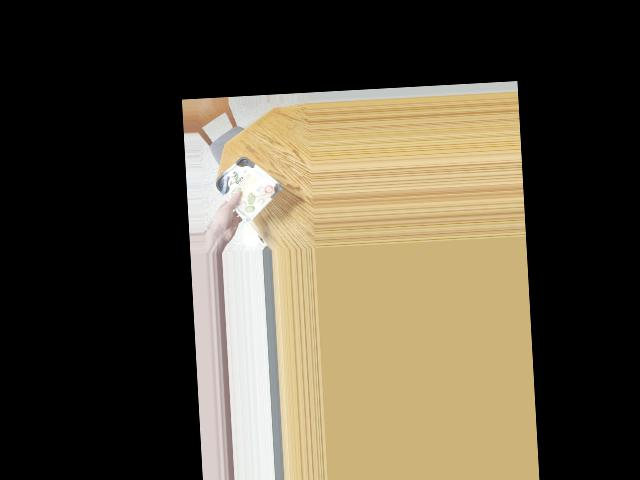cheese: (218, 163, 276, 204)
